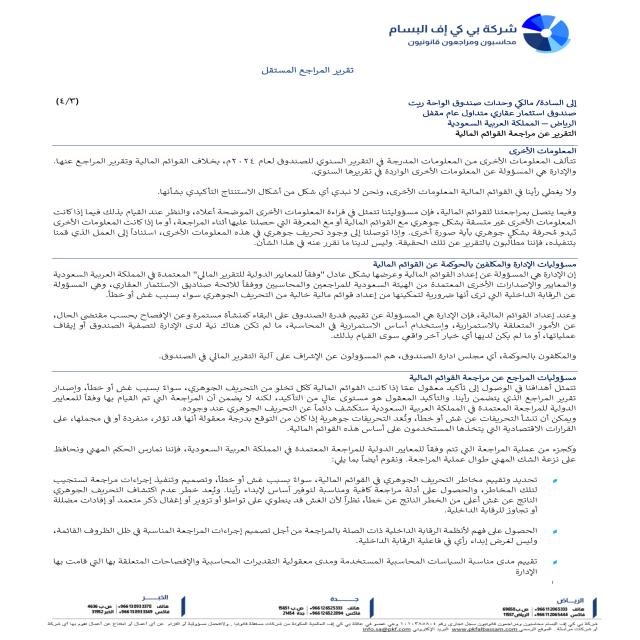auditor_report: (396, 370, 584, 382), (252, 60, 370, 79), (457, 126, 582, 142)
